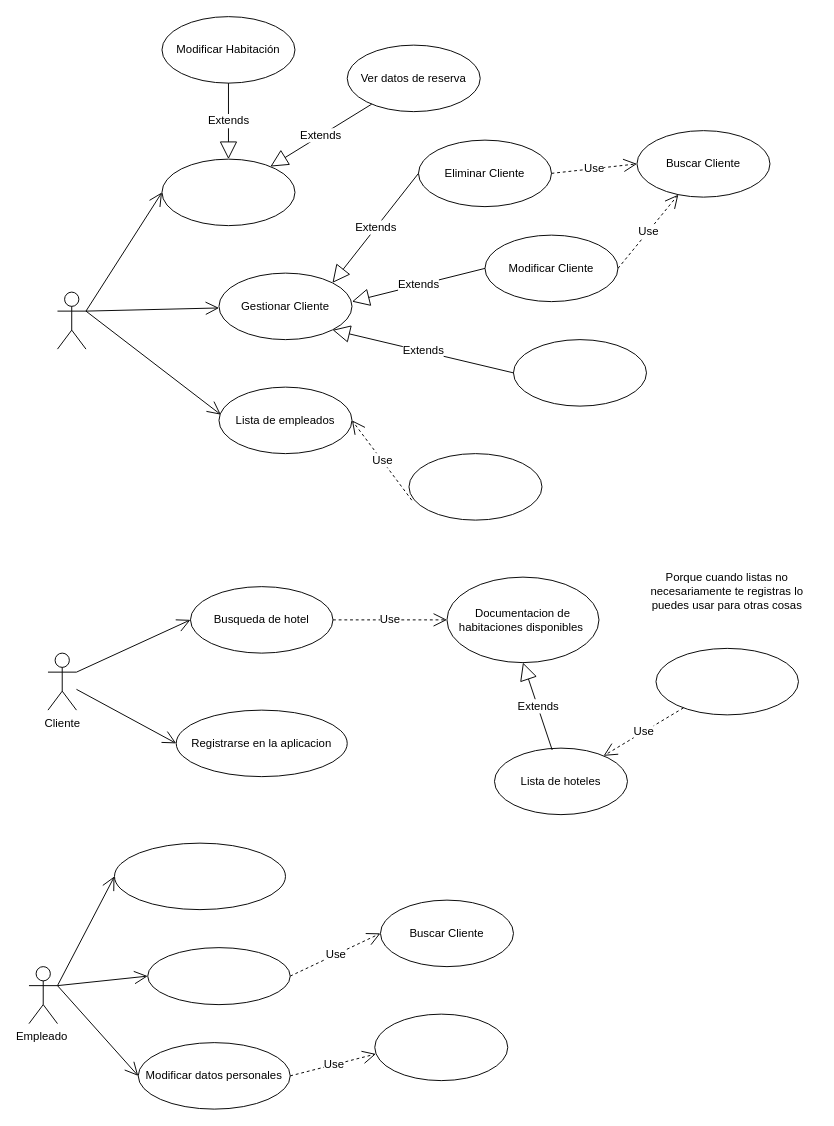
Image size: 834x1126. Some labels were removed from this diagram. The centre of each missing label's shape, as x and y in pixels:
"Alta Cliente" belongs at (579,372).
"Consultar Tareas / Planificación" belongs at (199,876).
"Gestionar empleados" belongs at (475,486).
"Gestionar Habitación" belongs at (228,192).
"LIsta de datos personales" belongs at (441,1047).
"Registro del Hospedaje" belongs at (726,681).
"Usuario Gestor Hotel" belongs at (71,320).
"Ver datos Clientes" belongs at (218,976).
